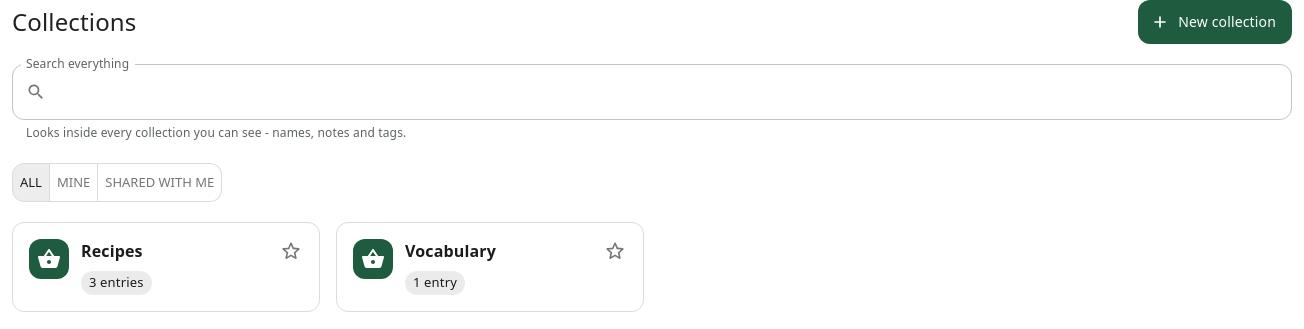
Test case: CollectionsPage › replaces the cards with results, because searching is not browsing
The width and height of the screenshot is (1304, 329).
Expected: the text "Vocabulary" is shown, [405,239,496,263]
Type "nothing" into the field labelled "Search everything" at (673, 92), box [54,64,1292,120]
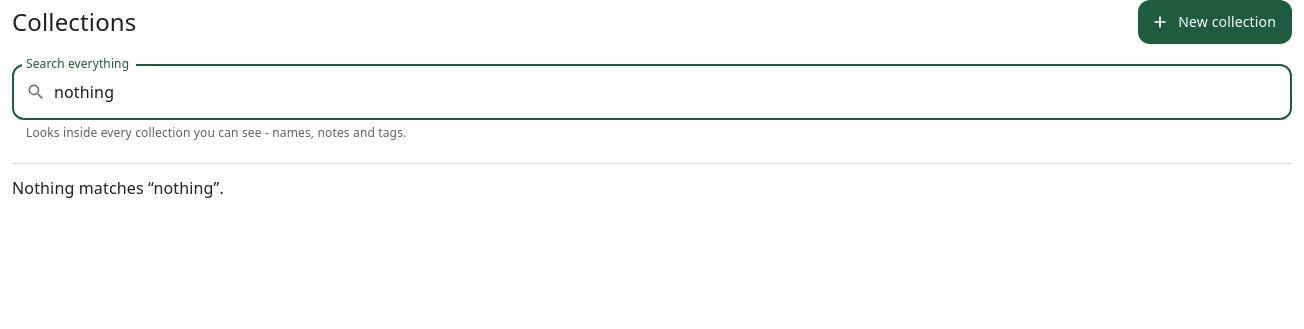
Result: the link "Vocabulary" is gone
Result: the text "Nothing matches “nothing”." is shown at [12,177,224,199]
